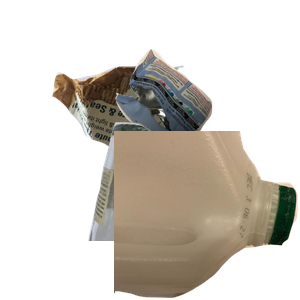cardboard: (50, 62, 228, 226)
glass: (86, 120, 277, 300)
plastic: (114, 131, 300, 300)
trash: (113, 46, 300, 189)
